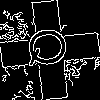Q: (25, 25, 77, 69)
